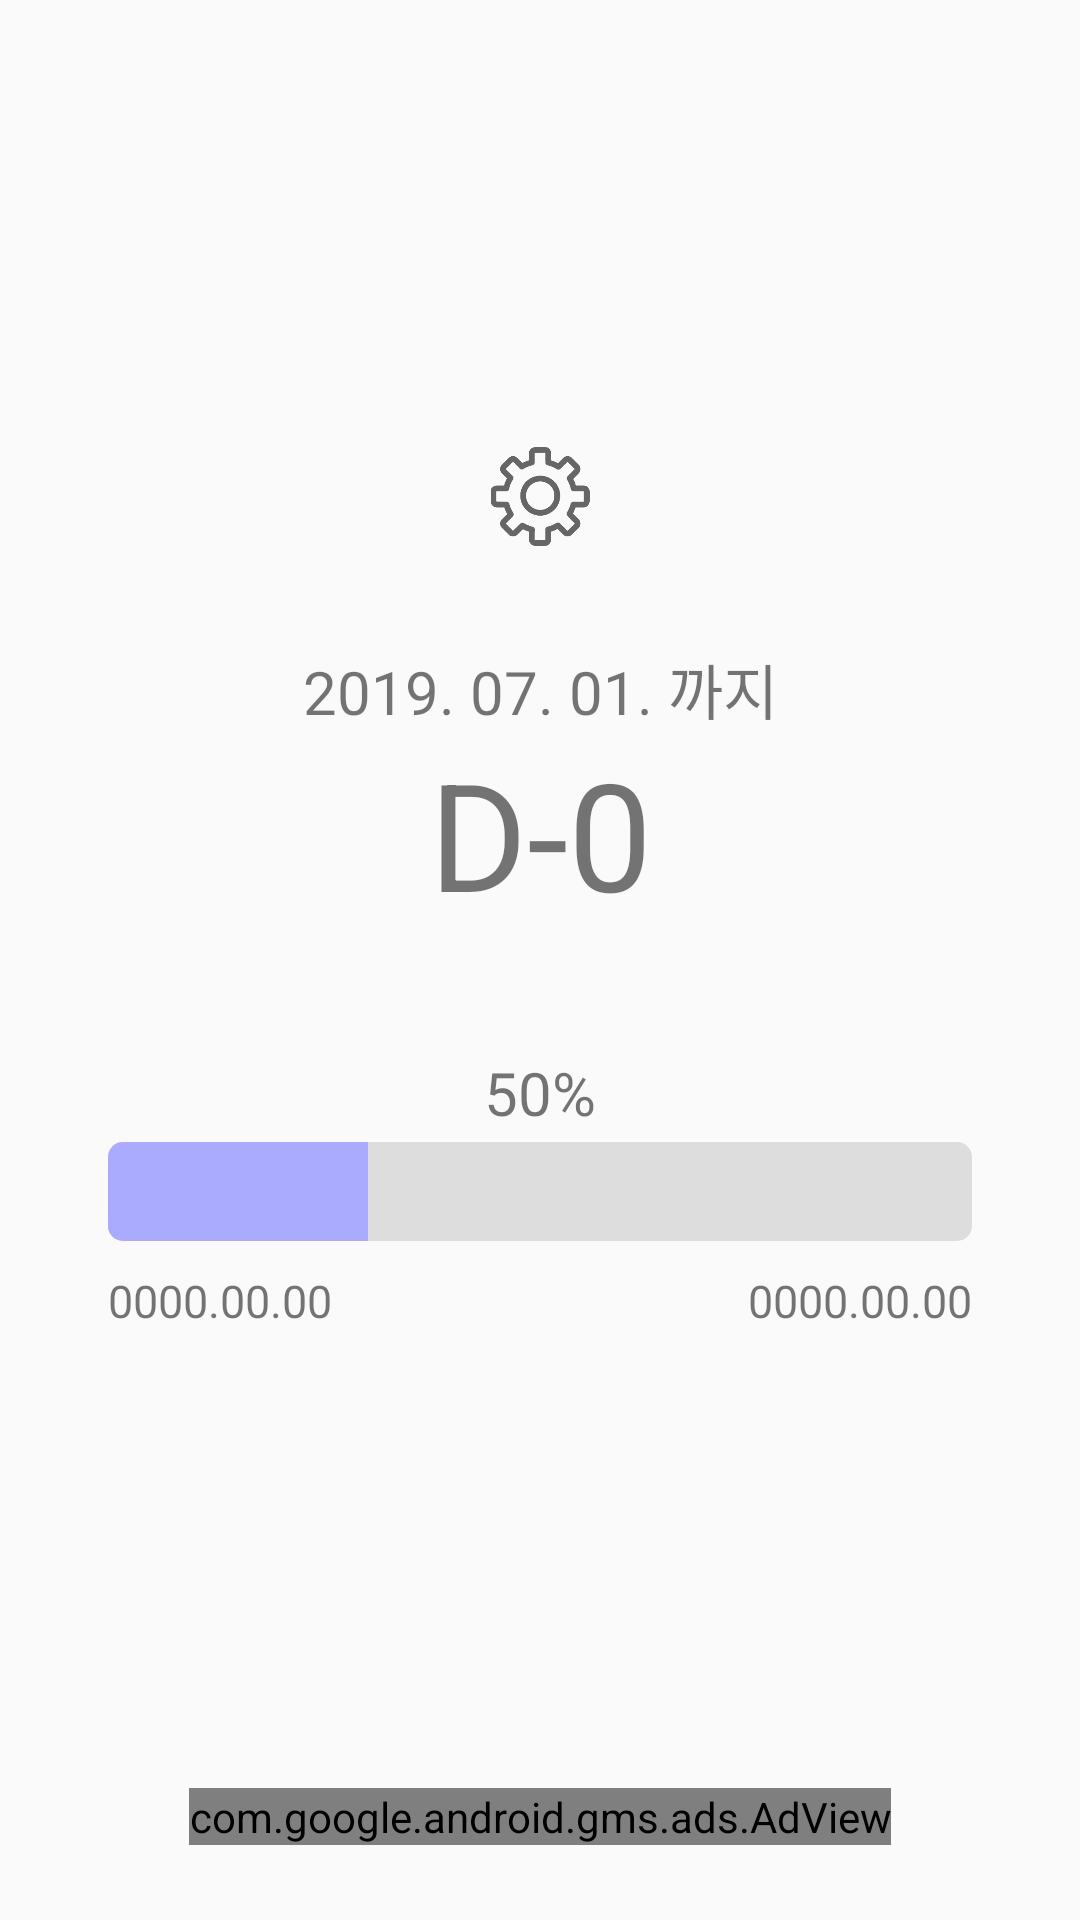

Point at icon controls on the screen. Image size 1080px x 1920px, points as [x,y].
setting: [540,496]
